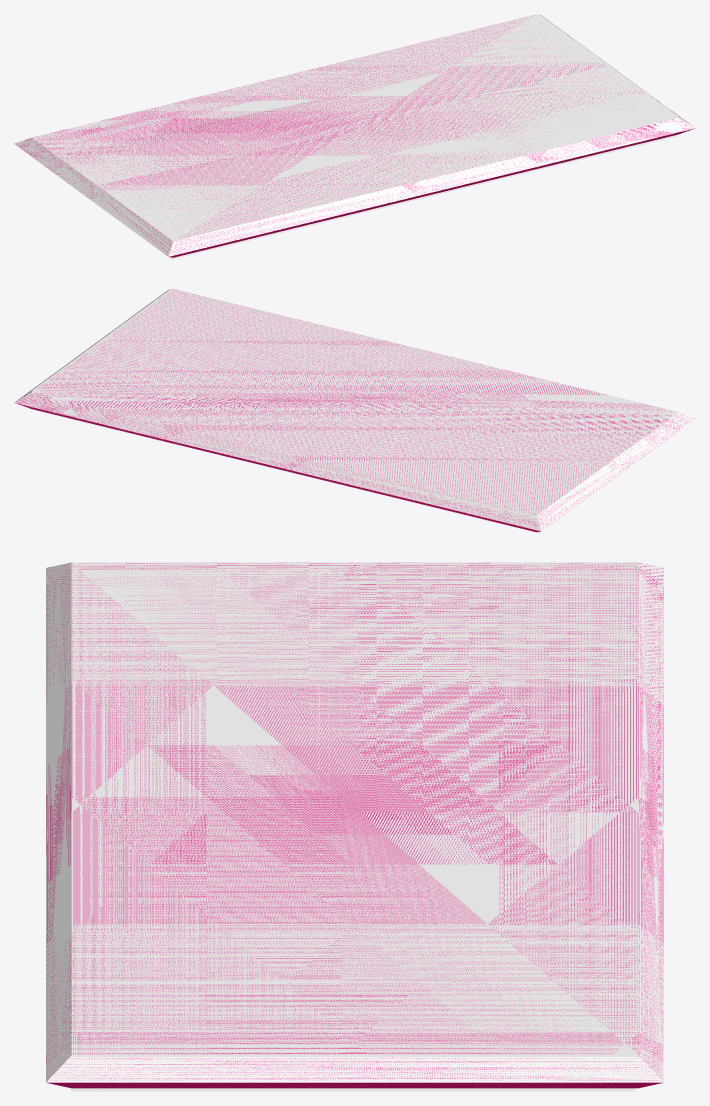
The model's file is 7.tablet imboost.dae.
3 views of the same model, one above another, from view 1: azimuth 30°, elevation 25°; view 2: azimuth 150°, elevation 25°; view 3: azimuth 270°, elevation 25° (orthographic). The views are drawn at different scales.
Parts seen in each view (by area): view 1: group_2 (×2), image_1, group_1, image_0; view 2: group_2 (×2), image_1, group_1, image_0; view 3: group_2 (×2), image_1, group_1, image_0.
Part boxes in pixels (x1,y1,x2,y2): group_2 (×2): (14,14,695,256); image_1: (105,14,679,240); group_1: (169,128,694,257); image_0: (31,135,677,259); group_2 (×2): (14,289,695,531); image_1: (31,288,676,494); group_1: (15,403,540,532); image_0: (33,409,679,533); group_2 (×2): (46,562,663,1082); image_1: (71,562,634,1056); group_1: (46,1082,663,1088); image_0: (71,1088,634,1091).
Bounding box in the file's own units: 13.18 × 6.69 × 0.4331.
